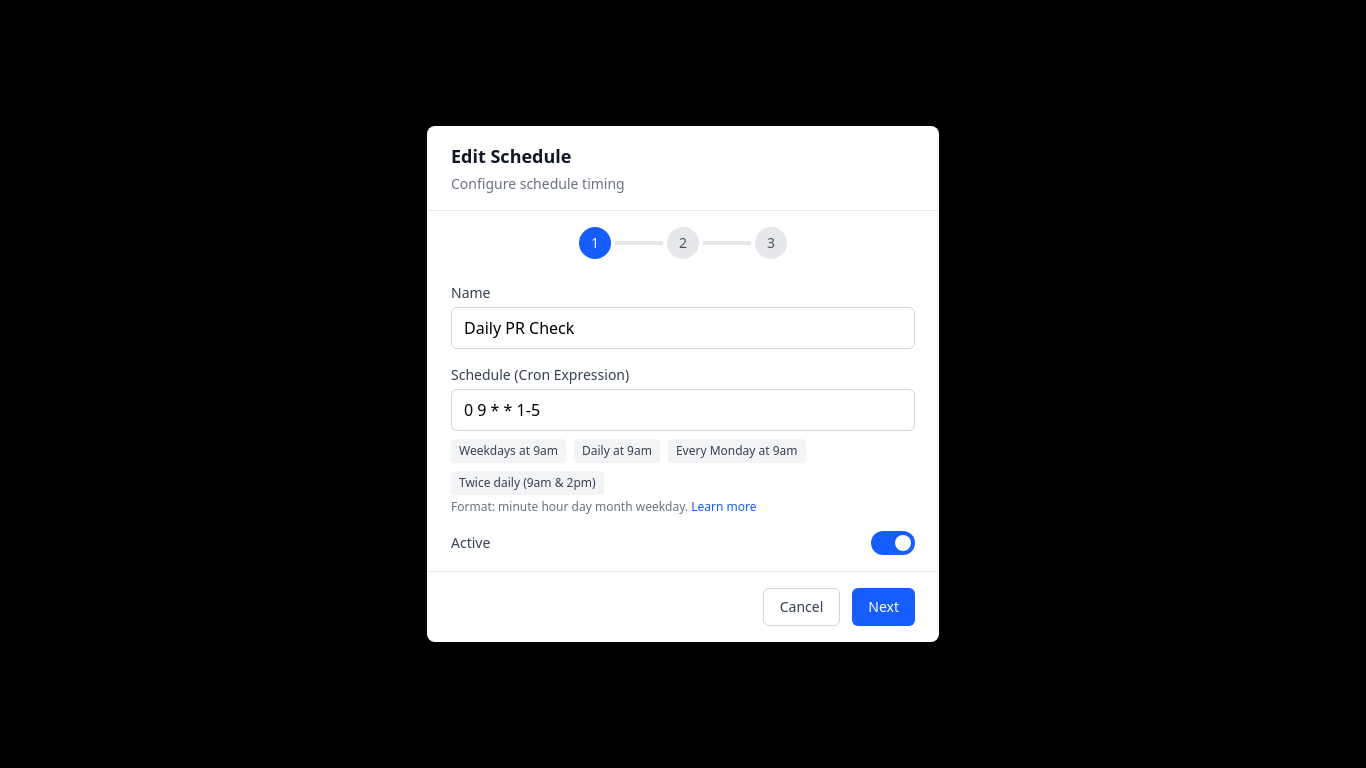
Test: ScheduleForm › Edit Mode › shows hint about keeping current PAT
The image size is (1366, 768).
Go to step 2
What coordinates should you click on to do the following:
click the button "Next"
I would click on:
 (884, 607)
Its box is [852, 588, 915, 626].
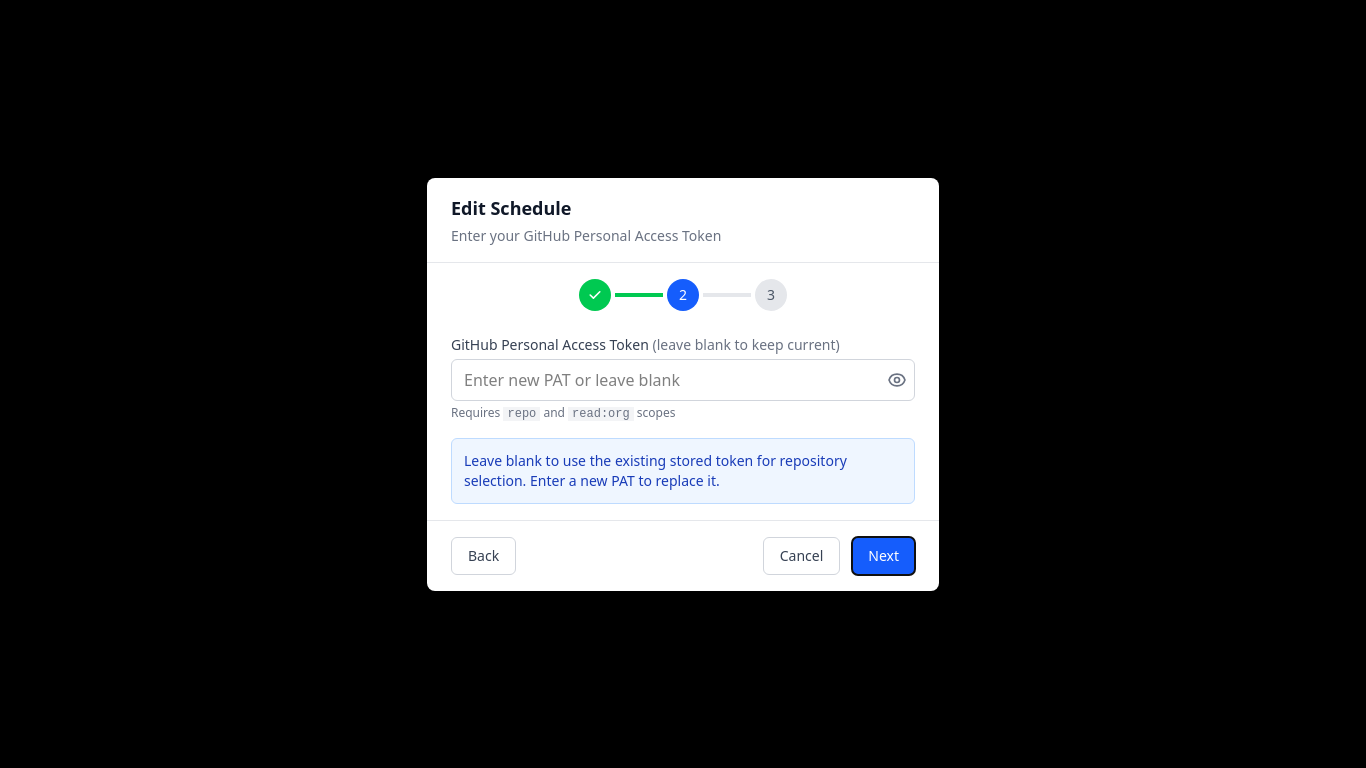
Now the text "(leave blank to keep current)" is shown, box [649, 334, 840, 354]
